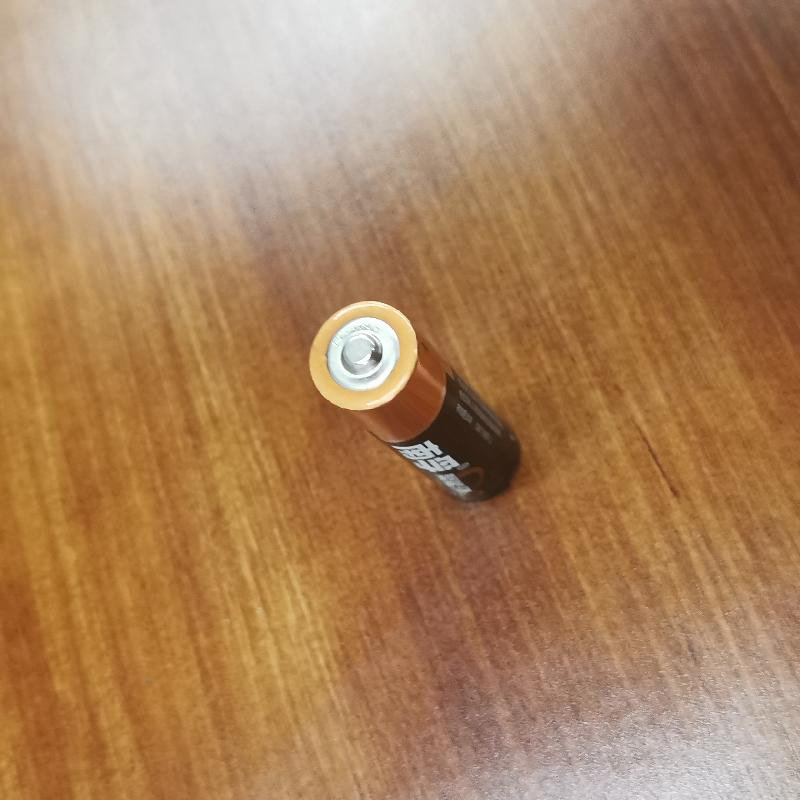battery: (302, 288, 525, 513)
